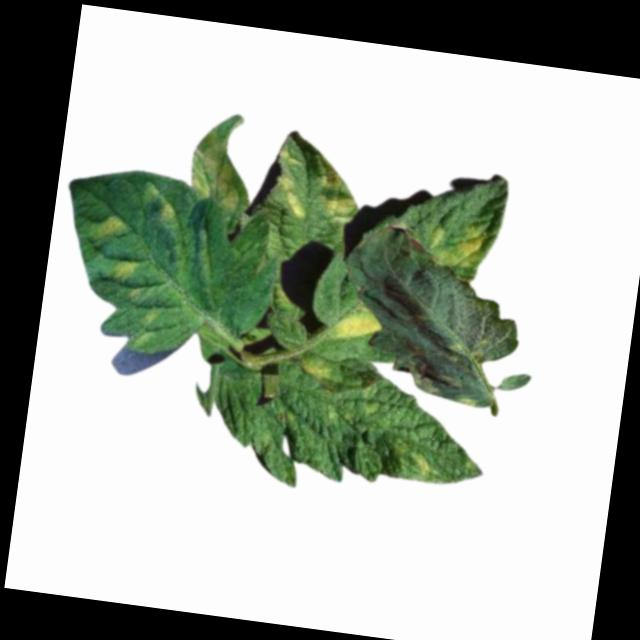Leaf_Mold: (184, 108, 252, 211), (394, 345, 498, 410), (423, 211, 496, 273), (269, 144, 316, 220), (306, 162, 361, 224), (386, 438, 434, 483), (137, 180, 183, 226), (331, 308, 383, 341), (88, 208, 124, 245), (296, 348, 336, 381), (112, 257, 139, 286)
